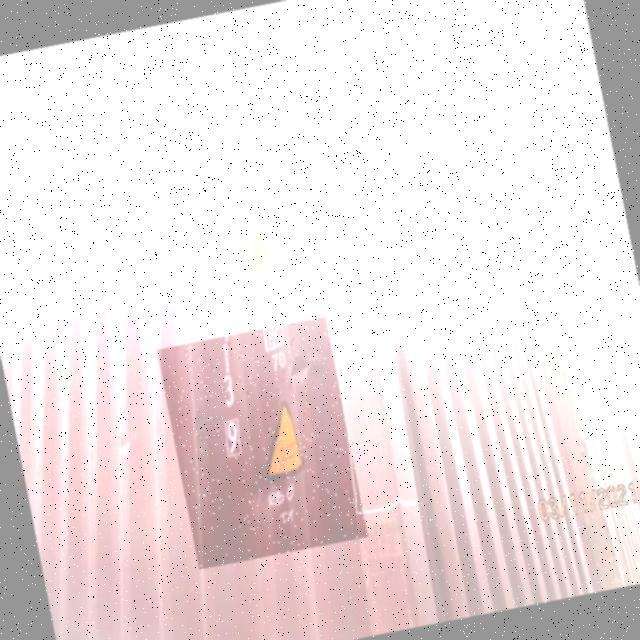Dent: (157, 317, 369, 570)
